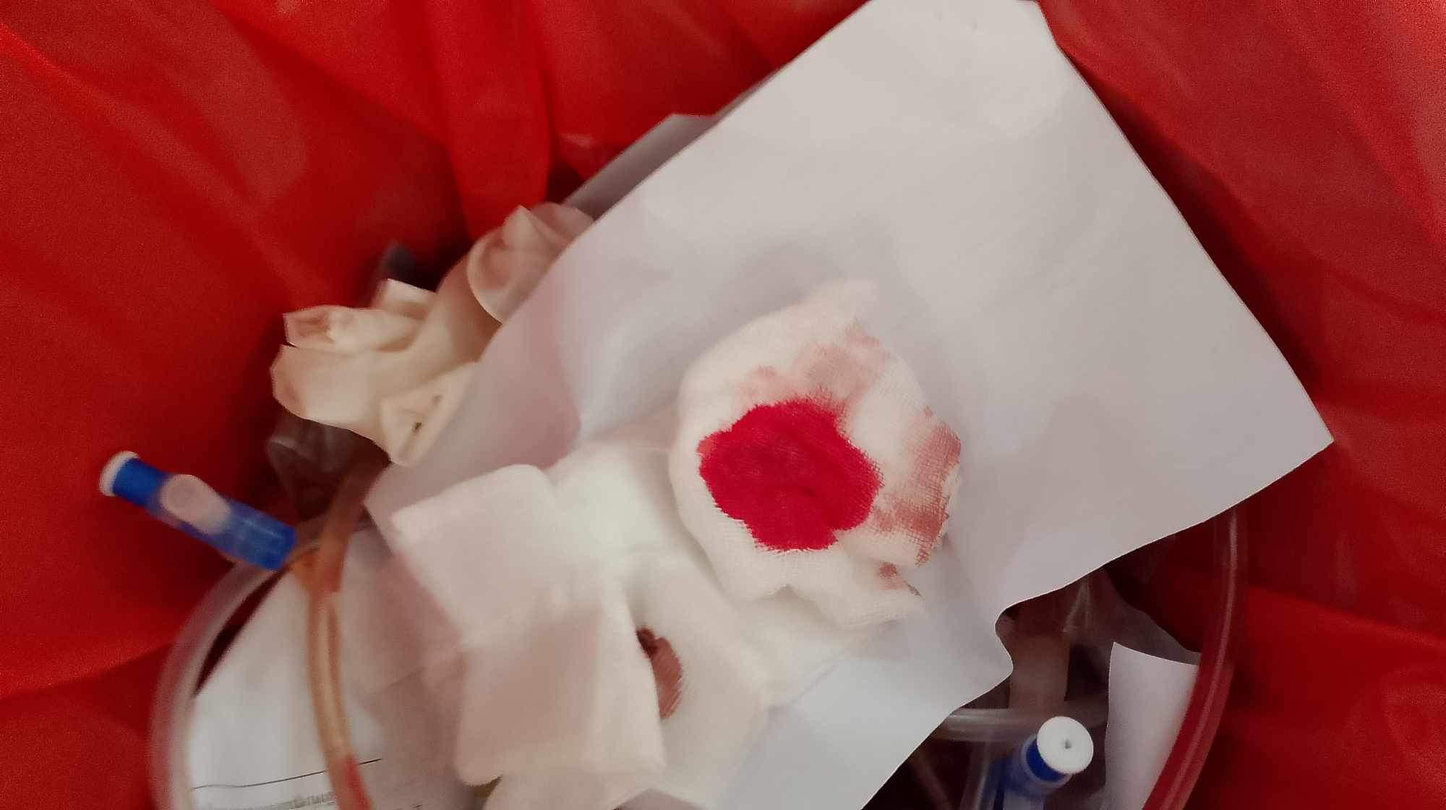General: (97, 3, 1333, 806), (161, 255, 970, 805)
Infectious: (666, 276, 963, 630)
Sharps: (96, 447, 299, 574)
